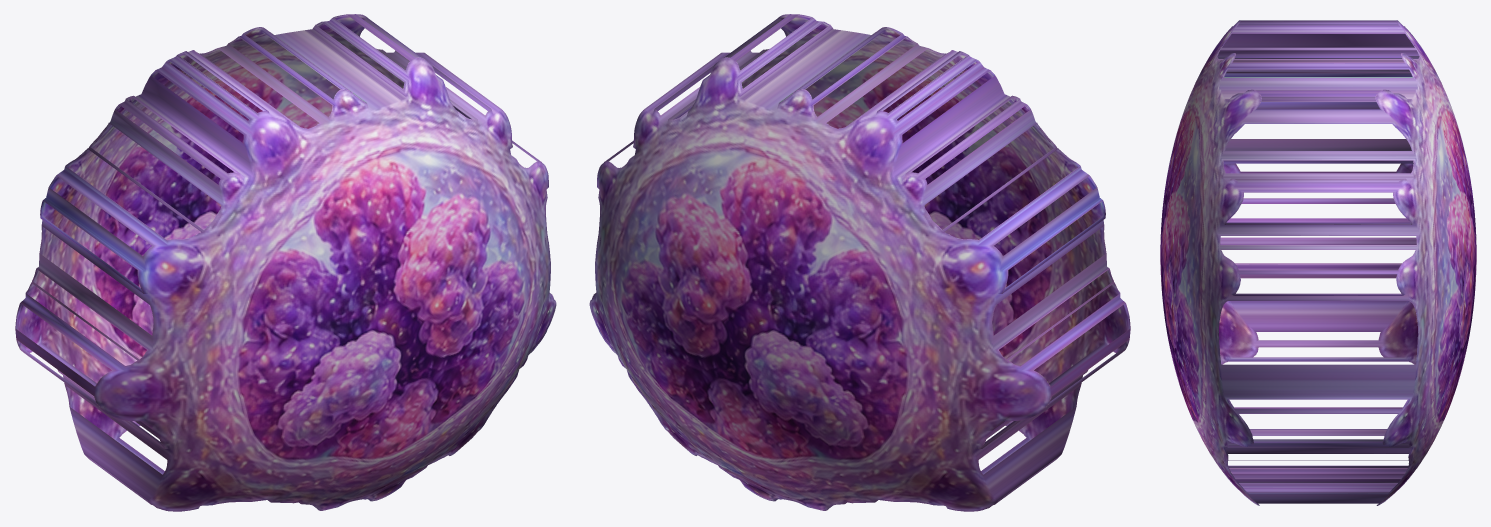
3 renders of one model, left to right at view 1: azimuth 30°, elevation 25°; view 2: azimuth 150°, elevation 25°; view 3: azimuth 270°, elevation 25°, orthographic. The views are drawn at different scales.
Parts seen in each view (by area): view 1: cells:2; view 2: cells:2; view 3: cells:2.
Part boxes in pixels (left/top/right/bottom): cells:2: left=15, top=14, right=556, bottom=511; cells:2: left=589, top=14, right=1130, bottom=511; cells:2: left=1160, top=20, right=1476, bottom=505.
Bounding box in the file's own units: 1.09 × 0.9524 × 0.66.
1 material, 1 textured.
